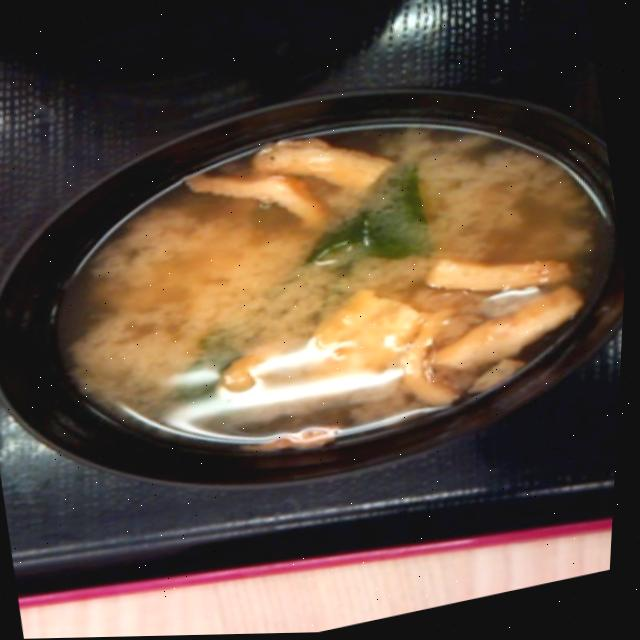汤锅炖物: (0, 40, 638, 556)
